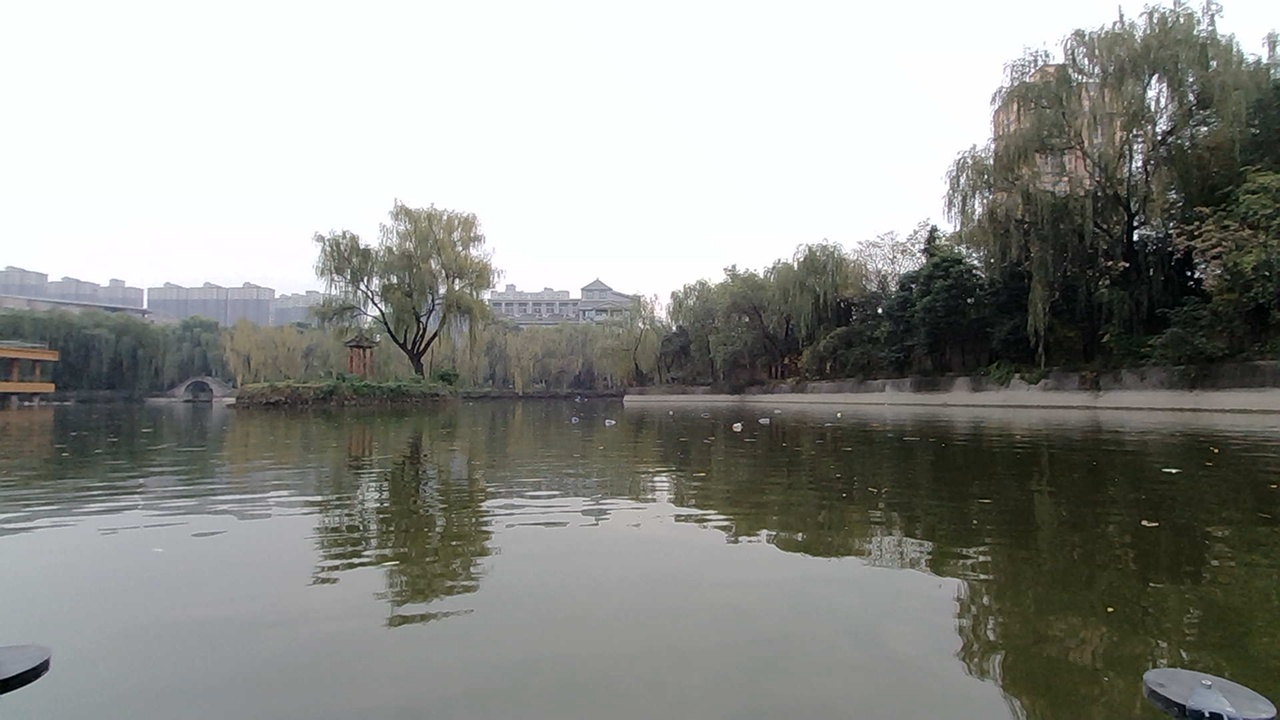bottle: (597, 409, 622, 431), (563, 408, 588, 428), (755, 410, 777, 426), (729, 414, 750, 430), (829, 407, 848, 424), (662, 406, 682, 418), (700, 409, 718, 422)
